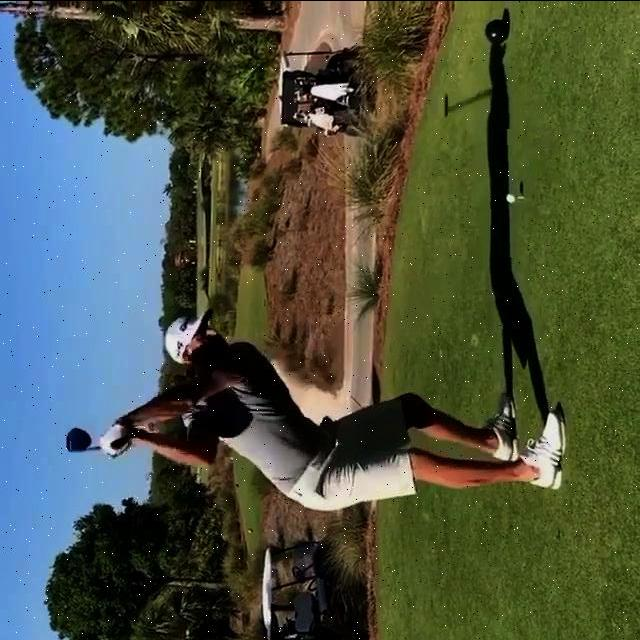golf ball: (504, 193, 517, 202)
golf club-handle: (64, 427, 127, 456)
golf club-head: (64, 426, 93, 455)
